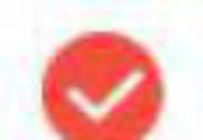CheckBox: (1, 1, 202, 139)
